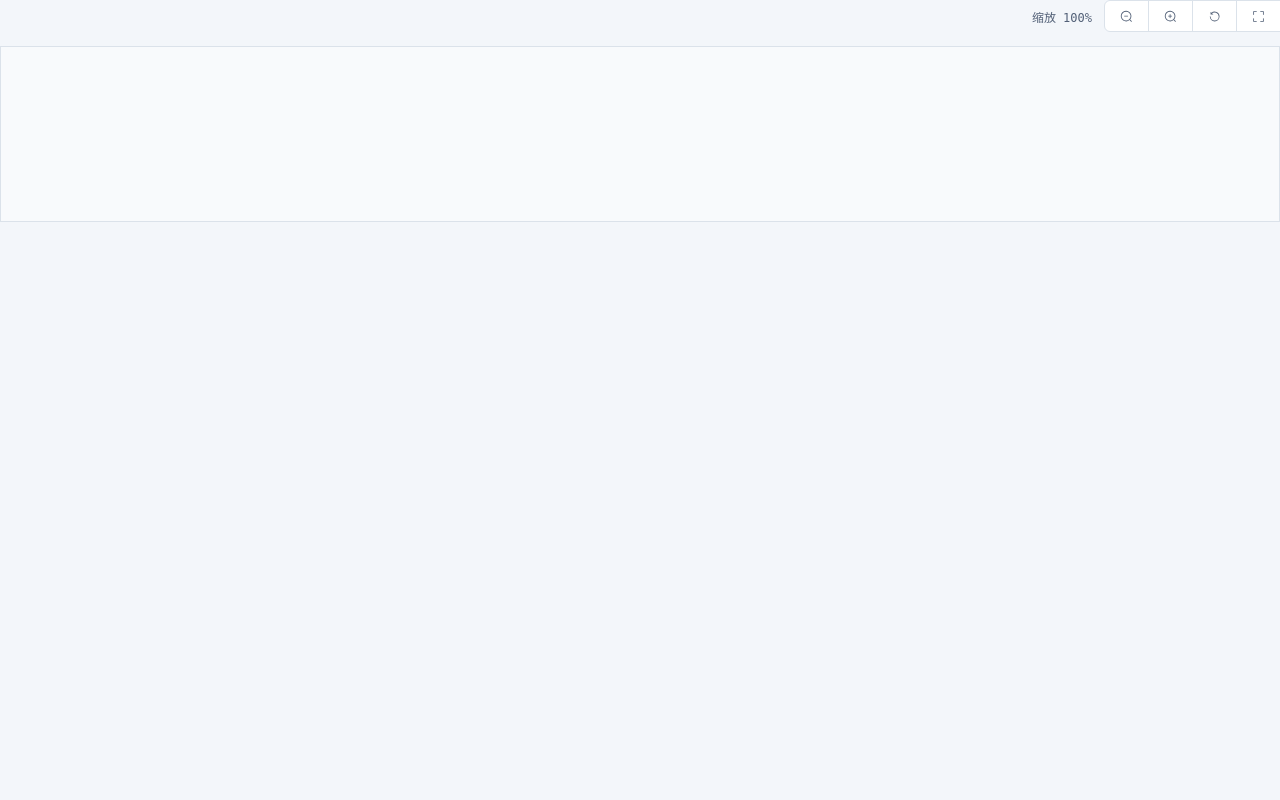
Test: ResearchWorkflowDiagram › keeps compiled edges, adds Chinese parent labels, and supports zoomed preview
Expected: the element with test id "research-workflow-diagram" reads "workflow", [160,43,221,63]
Click the button named "放大工作流拓扑".
click(1170, 16)  # box [1148,0,1193,32]
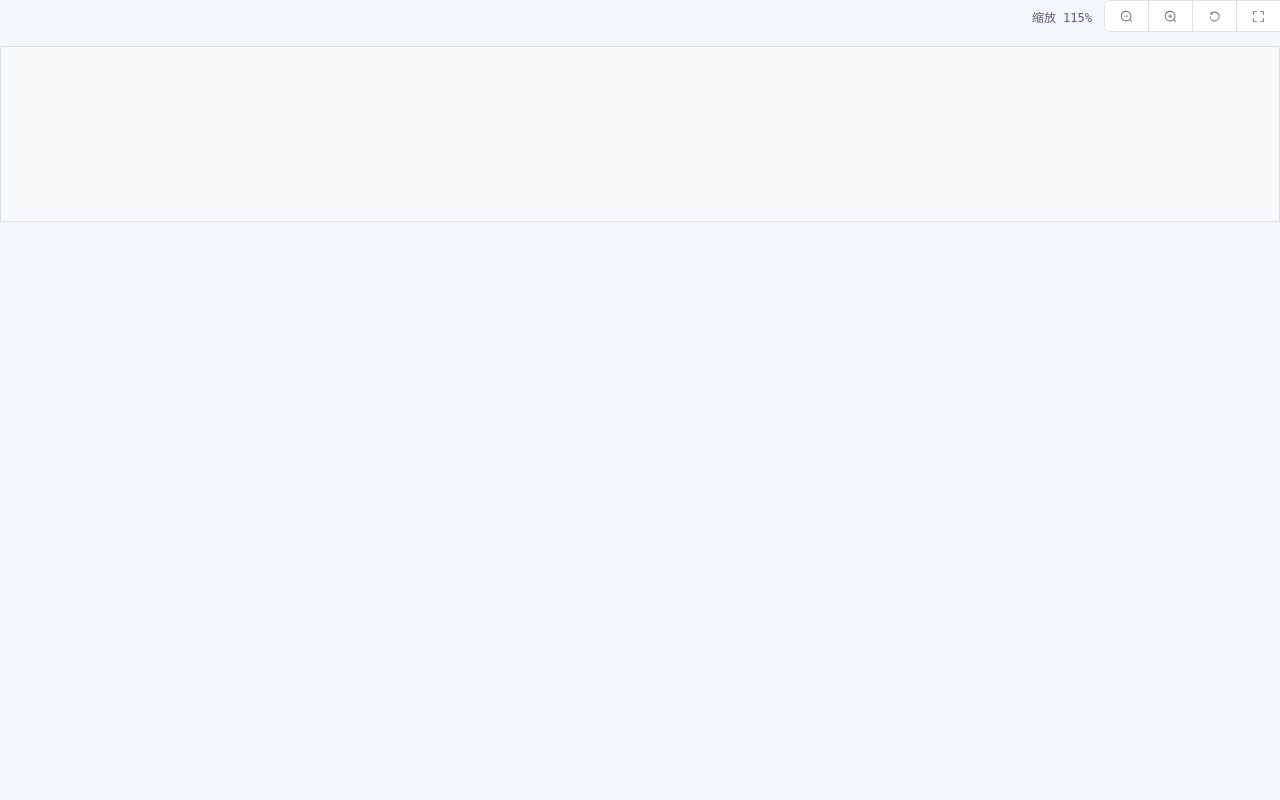
Click the button with test id "preview-research-workflow".
click(1258, 16)  # box [1236,0,1279,32]
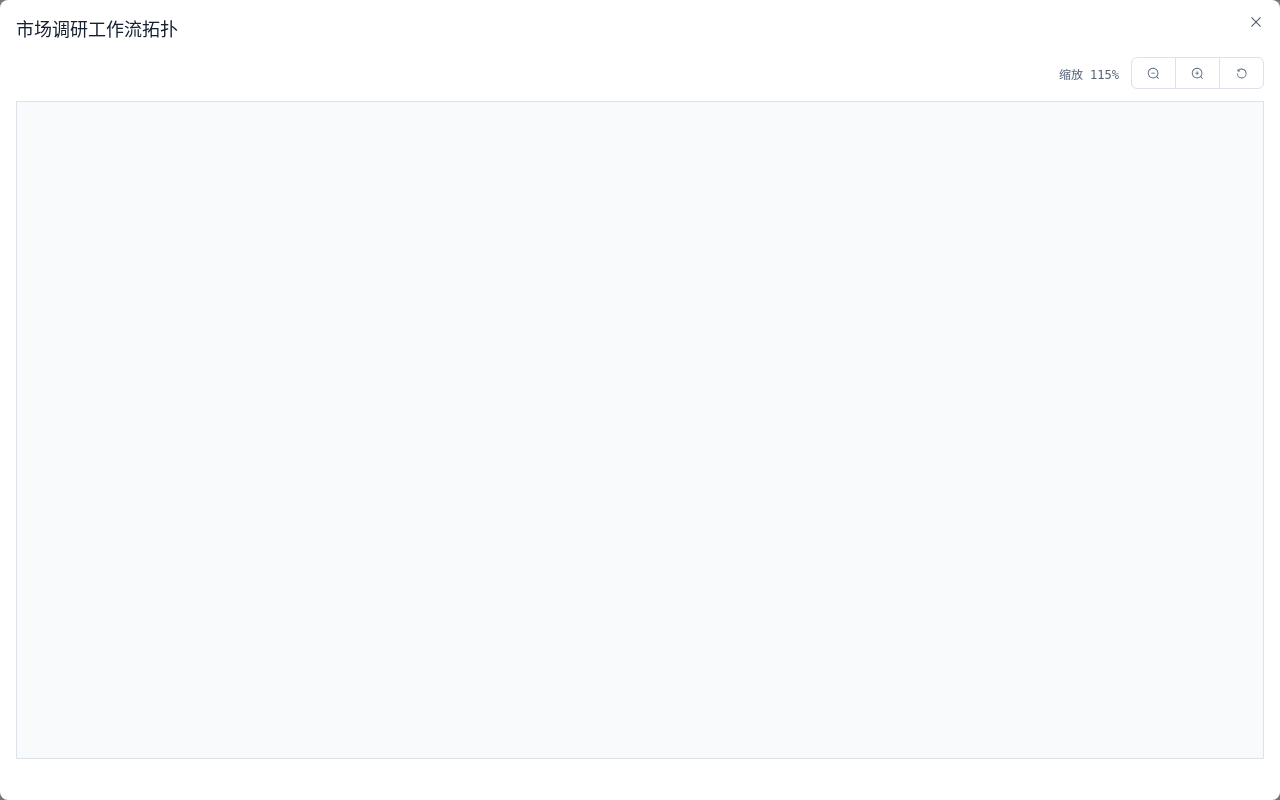
Now the element with test id "research-workflow-preview" reads "workflow", box [88,98,149,118]
